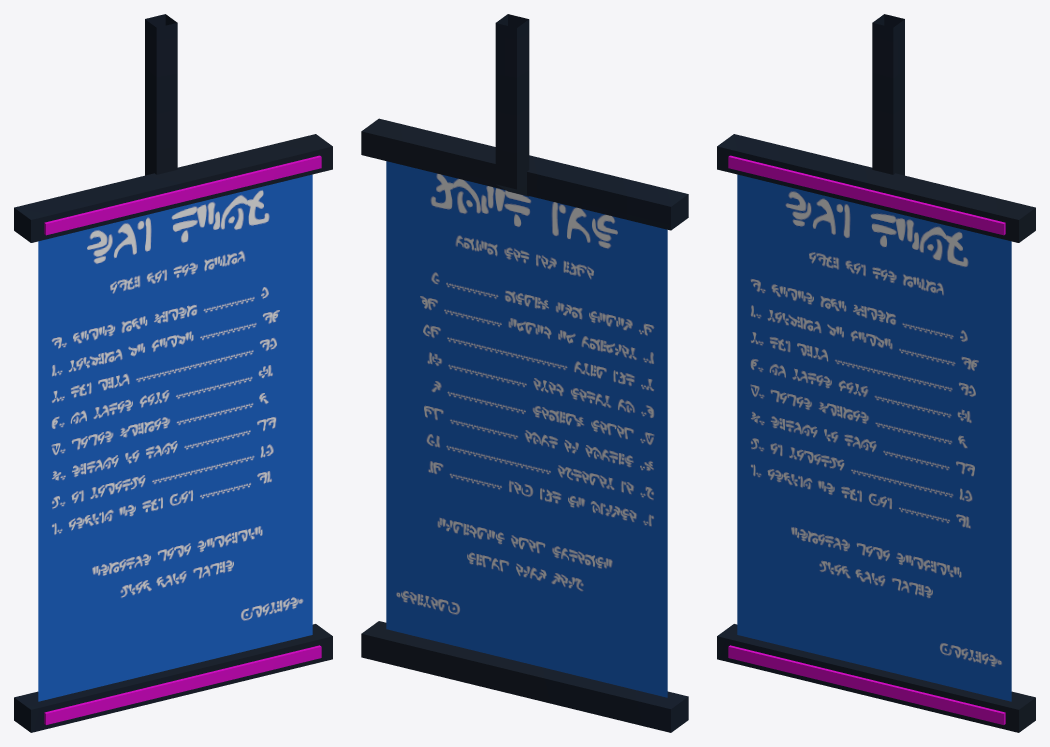
The model's file is Pub - menu.fbx.
3 renders of one model, left to right at view 1: azimuth 30°, elevation 25°; view 2: azimuth 150°, elevation 25°; view 3: azimuth 330°, elevation 25°, orthographic. The views are drawn at different scales.
Visible parts, largest first — view 1: Pub_menu; view 2: Pub_menu; view 3: Pub_menu.
Part boxes in pixels (left/top/right/bottom): Pub_menu: left=14, top=14, right=332, bottom=732; Pub_menu: left=361, top=14, right=688, bottom=732; Pub_menu: left=717, top=14, right=1035, bottom=732.
Bounding box in the file's own units: 134 × 279 × 21.95.
